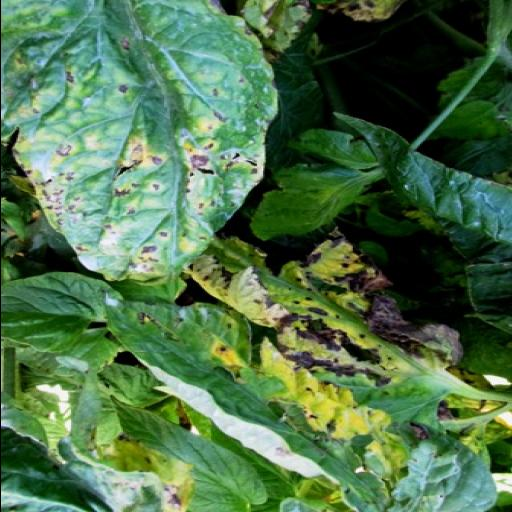disease_tomato: (0, 0, 278, 281), (100, 296, 396, 512), (187, 234, 469, 424)
